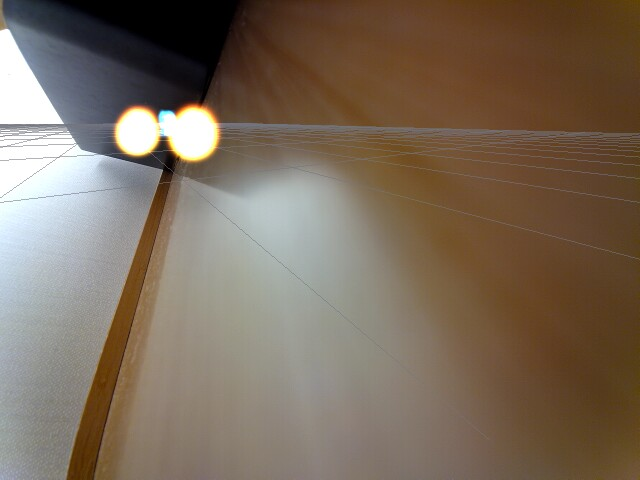fire: (167, 103, 224, 165), (113, 104, 160, 157)
